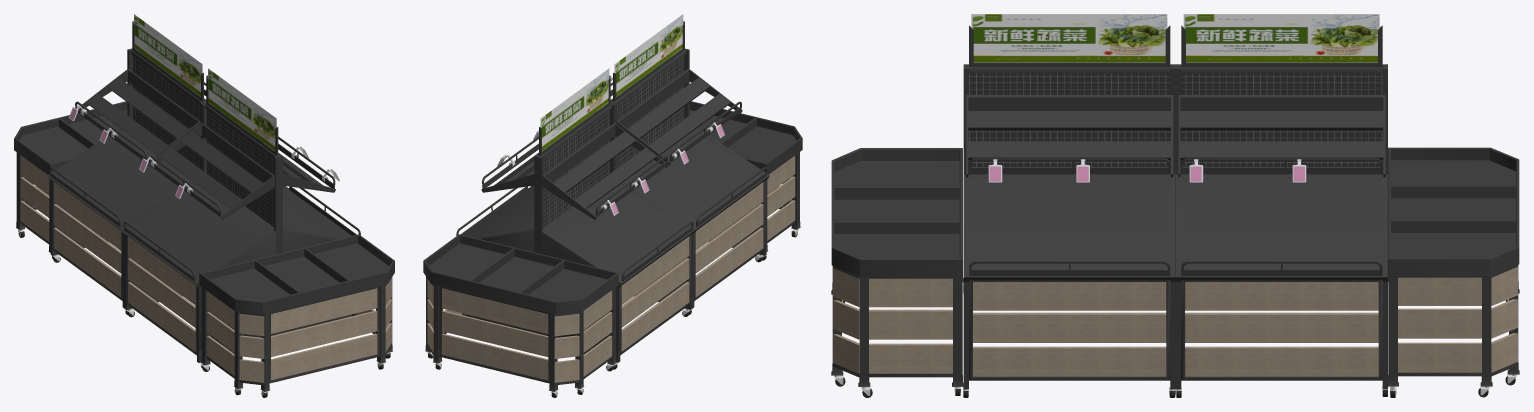
File: SM_蔬菜柜001.fbx
The picture shows the model from 3 angles, left to right: view 1: azimuth 30°, elevation 25°; view 2: azimuth 150°, elevation 25°; view 3: azimuth 270°, elevation 25°; orthographic projection. The views are drawn at different scales.
Parts seen in each view (by area): view 1: SM_蔬菜柜001; view 2: SM_蔬菜柜001; view 3: SM_蔬菜柜001.
Part boxes in pixels (box(x1,y1,x2,y2)): SM_蔬菜柜001: box(14, 14, 394, 397); SM_蔬菜柜001: box(423, 14, 802, 397); SM_蔬菜柜001: box(831, 14, 1519, 397).
Size of the model in its own units: 140 by 185 by 348.
